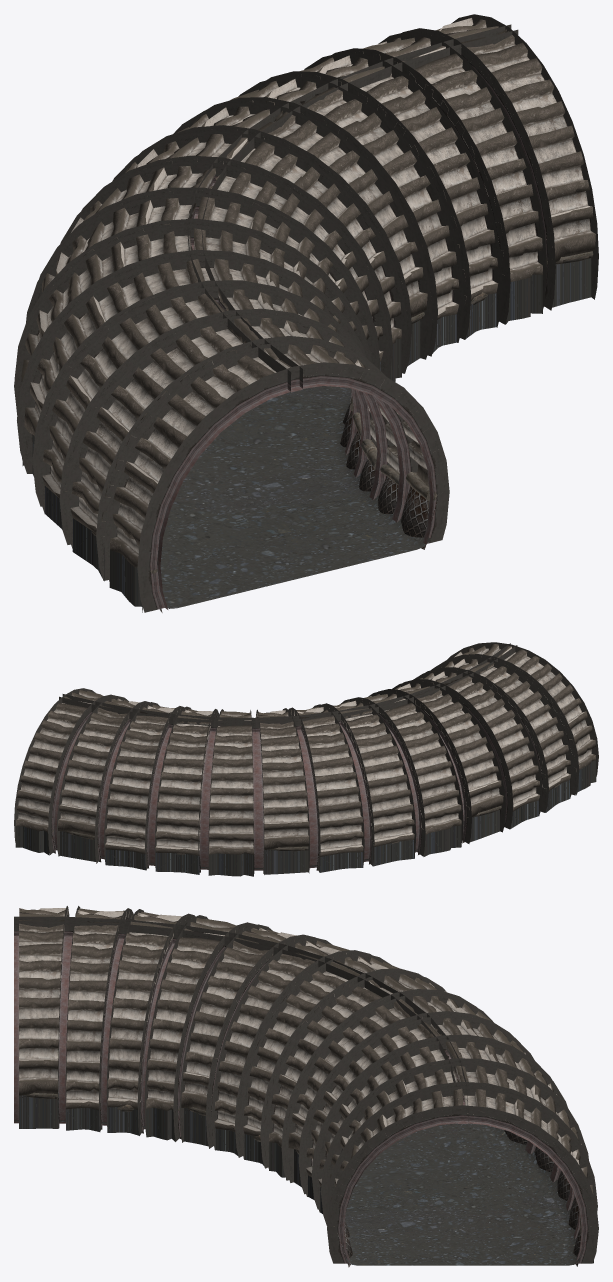
File: tunnel_tile_2.dae
3 renders of one model, top to bottom at view 1: azimuth 30°, elevation 25°; view 2: azimuth 150°, elevation 25°; view 3: azimuth 270°, elevation 25°, orthographic. The views are drawn at different scales.
Visible parts, largest first — view 1: Walls, Ground, Chainlink, Wood; view 2: Walls, Wood; view 3: Walls, Ground, Chainlink, Wood.
Part boxes in pixels (left/top/right/bottom): Walls: left=14, top=14, right=598, bottom=612; Ground: left=160, top=386, right=430, bottom=608; Chainlink: left=159, top=258, right=591, bottom=612; Wood: left=34, top=251, right=593, bottom=573; Walls: left=14, top=642, right=598, bottom=876; Wood: left=52, top=783, right=560, bottom=854; Walls: left=14, top=906, right=598, bottom=1264; Ground: left=14, top=1120, right=579, bottom=1265; Chainlink: left=19, top=1096, right=587, bottom=1267; Wood: left=24, top=1092, right=581, bottom=1234.
Bounding box in the file's own units: 13.03 × 13.03 × 3.99.
